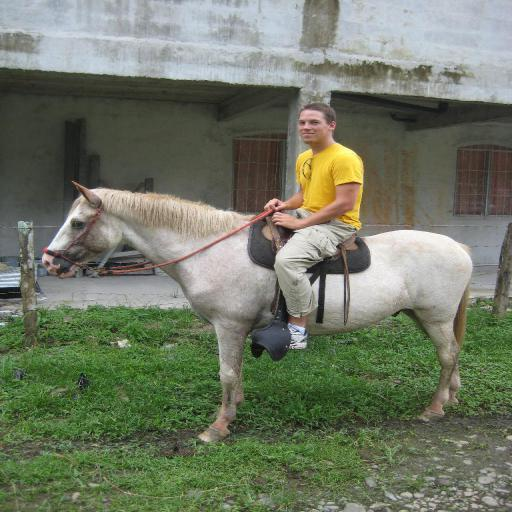horse: (40, 182, 478, 442)
